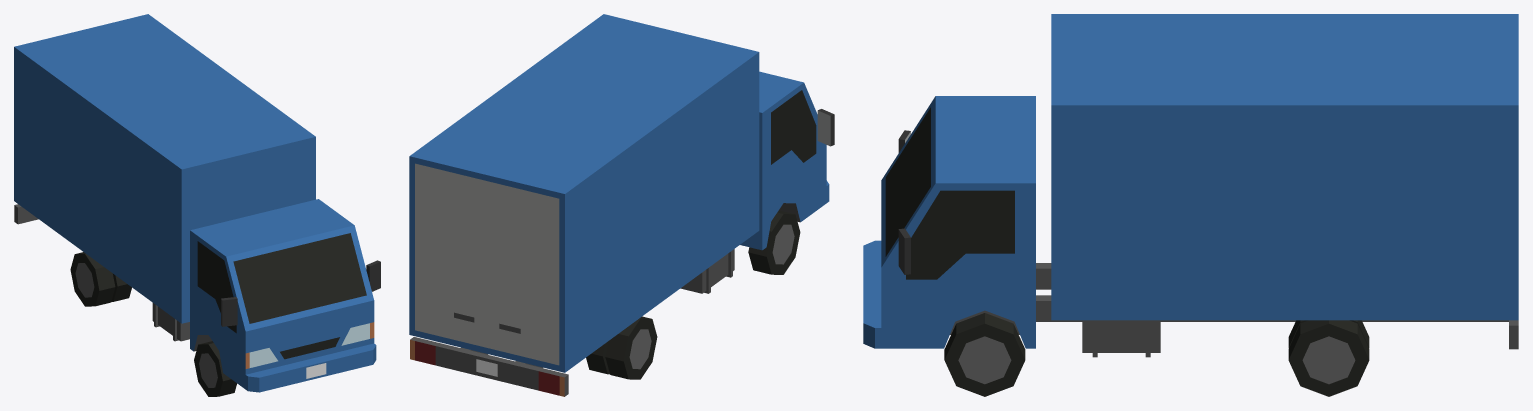
Rendered from Veh_Truck_02_Blue.glb.
The picture shows the model from 3 angles, left to right: view 1: azimuth 30°, elevation 25°; view 2: azimuth 150°, elevation 25°; view 3: azimuth 270°, elevation 25°; orthographic projection. The views are drawn at different scales.
Visible parts, largest first — view 1: Truck_02_Blue, Wheel_RR, Wheel_FR; view 2: Truck_02_Blue, Wheel_RR, Wheel_FR; view 3: Truck_02_Blue, Wheel_RL, Wheel_FL.
Part boxes in pixels (<box>): Truck_02_Blue: <box>14,14,380,392</box>; Wheel_RR: <box>70,252,131,306</box>; Wheel_FR: <box>194,341,236,396</box>; Truck_02_Blue: <box>409,14,834,396</box>; Wheel_RR: <box>586,316,657,379</box>; Wheel_FR: <box>748,210,800,274</box>; Truck_02_Blue: <box>863,14,1518,357</box>; Wheel_RL: <box>1288,320,1369,396</box>; Wheel_FL: <box>944,313,1025,396</box>.
Size of the model in its own units: 1.27 by 1.61 by 3.26.
Materials: 1 (1 with a texture image).
